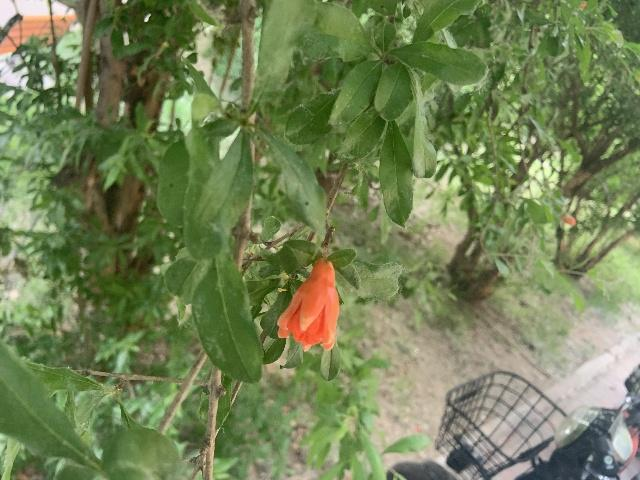bud: (561, 216, 575, 225)
flower: (277, 257, 339, 351)
